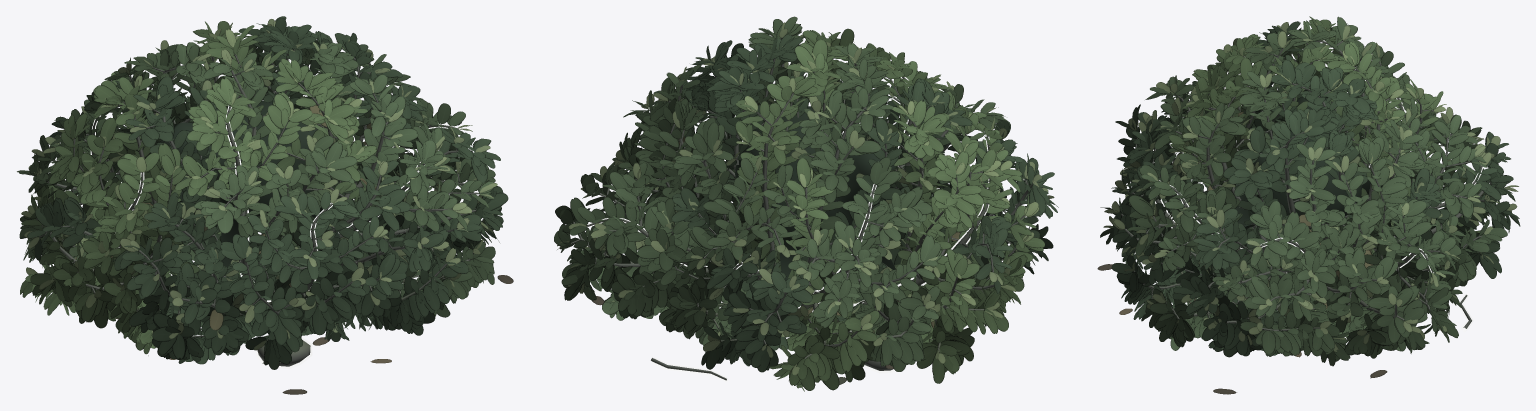
Rendered from arbusto_boj.glb.
3 views of the same model, side by side, from view 1: azimuth 30°, elevation 25°; view 2: azimuth 150°, elevation 25°; view 3: azimuth 270°, elevation 25° (orthographic). The views are drawn at different scales.
Visible parts, largest first — view 1: Hojas_LOD0, Ramas_LOD0, Masa_LOD0, Tinta_LOD0; view 2: Hojas_LOD0, Ramas_LOD0, Masa_LOD0, Tinta_LOD0; view 3: Hojas_LOD0, Ramas_LOD0, Masa_LOD0, Tinta_LOD0.
Part boxes in pixels (x1,y1,x2,y2): Hojas_LOD0: [17, 16, 513, 394]; Ramas_LOD0: [36, 46, 479, 340]; Masa_LOD0: [150, 100, 340, 278]; Tinta_LOD0: [90, 105, 459, 369]; Hojas_LOD0: [554, 16, 1058, 391]; Ramas_LOD0: [571, 37, 1033, 380]; Masa_LOD0: [735, 106, 895, 280]; Tinta_LOD0: [587, 77, 989, 381]; Hojas_LOD0: [1097, 16, 1520, 394]; Ramas_LOD0: [1121, 40, 1502, 333]; Masa_LOD0: [1235, 97, 1406, 229]; Tinta_LOD0: [1150, 56, 1483, 332].
Size of what is drawn, in the model's own units: 1.56 by 0.979 by 1.43.
Materials: 5 (1 with a texture image).
